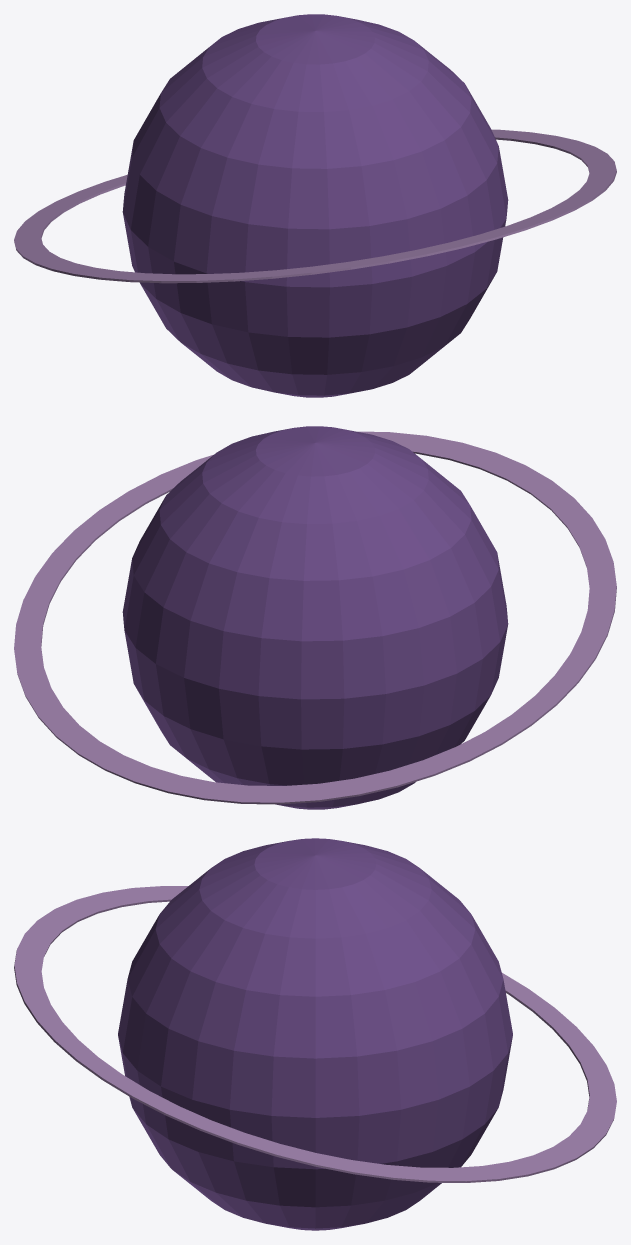
The model's file is planet.gltf.
3 views of the same model, one above another, from view 1: azimuth 30°, elevation 25°; view 2: azimuth 150°, elevation 25°; view 3: azimuth 270°, elevation 25° (orthographic). The views are drawn at different scales.
Visible parts, largest first — view 1: globe, ring; view 2: globe, ring; view 3: globe, ring.
Part boxes in pixels (x1=…): globe: x1=122, y1=14, x2=508, y2=397; ring: x1=14, y1=129, x2=616, y2=283; globe: x1=122, y1=426, x2=508, y2=809; ring: x1=14, y1=431, x2=616, y2=804; globe: x1=118, y1=838, x2=512, y2=1230; ring: x1=14, y1=886, x2=616, y2=1182.
Bounding box in the file's own units: 62.83 × 40 × 61.02.
